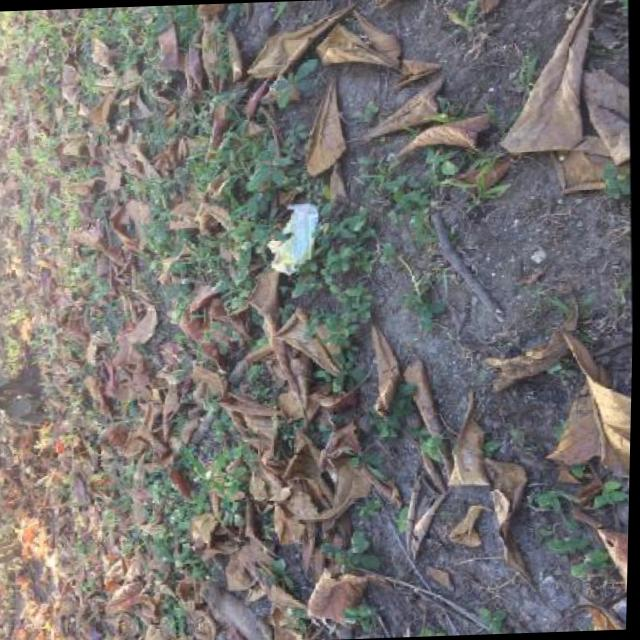plastic: (271, 202, 323, 276)
